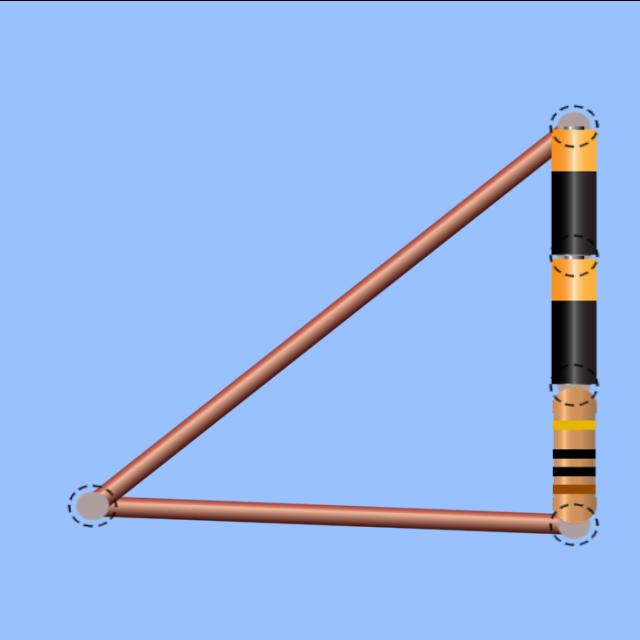Battery: (551, 258, 597, 384), (551, 129, 597, 255)
Resistor: (552, 385, 596, 522)
Wire: (98, 134, 551, 502), (104, 496, 588, 536)
